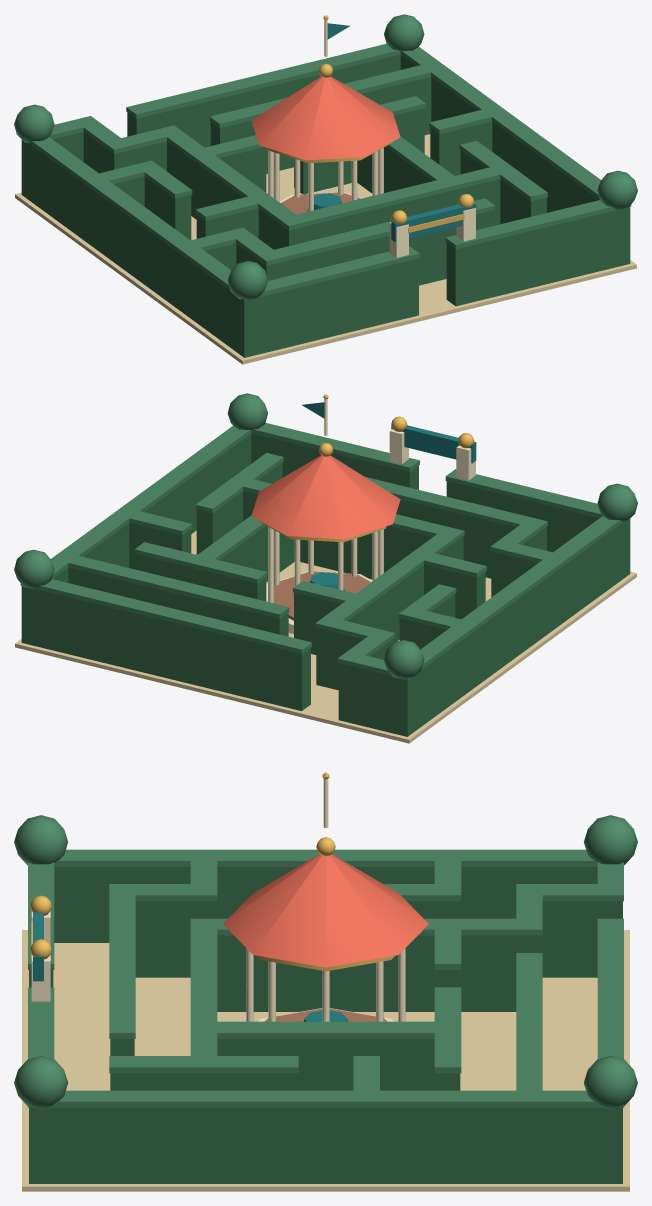
File: ride_maze.glb
3 renders of one model, top to bottom at view 1: azimuth 30°, elevation 25°; view 2: azimuth 150°, elevation 25°; view 3: azimuth 270°, elevation 25°, orthographic. The views are drawn at different scales.
Parts seen in each view (by area): view 1: ride_maze; view 2: ride_maze; view 3: ride_maze.
Part boxes in pixels (bbox=[...]): ride_maze: bbox=[14, 14, 637, 364]; ride_maze: bbox=[14, 393, 637, 743]; ride_maze: bbox=[14, 772, 637, 1191].
Size of the model in its own units: 11.5 by 5.9 by 11.5.
